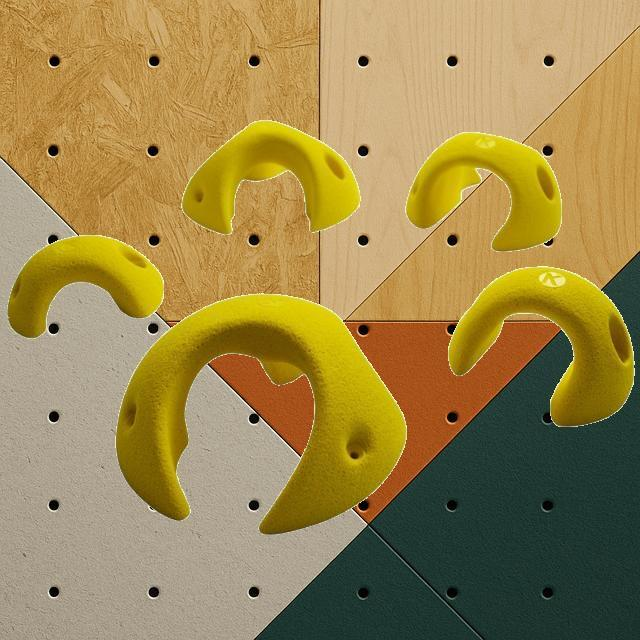Jug: (116, 292, 407, 534), (448, 266, 634, 426), (180, 119, 360, 235), (406, 130, 562, 252), (7, 234, 164, 338)
